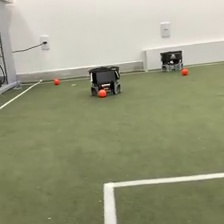ball: (96, 87, 107, 98), (180, 66, 189, 77), (52, 77, 60, 86)
goal: (139, 38, 224, 74)
robot: (87, 64, 123, 99), (159, 49, 185, 73)
